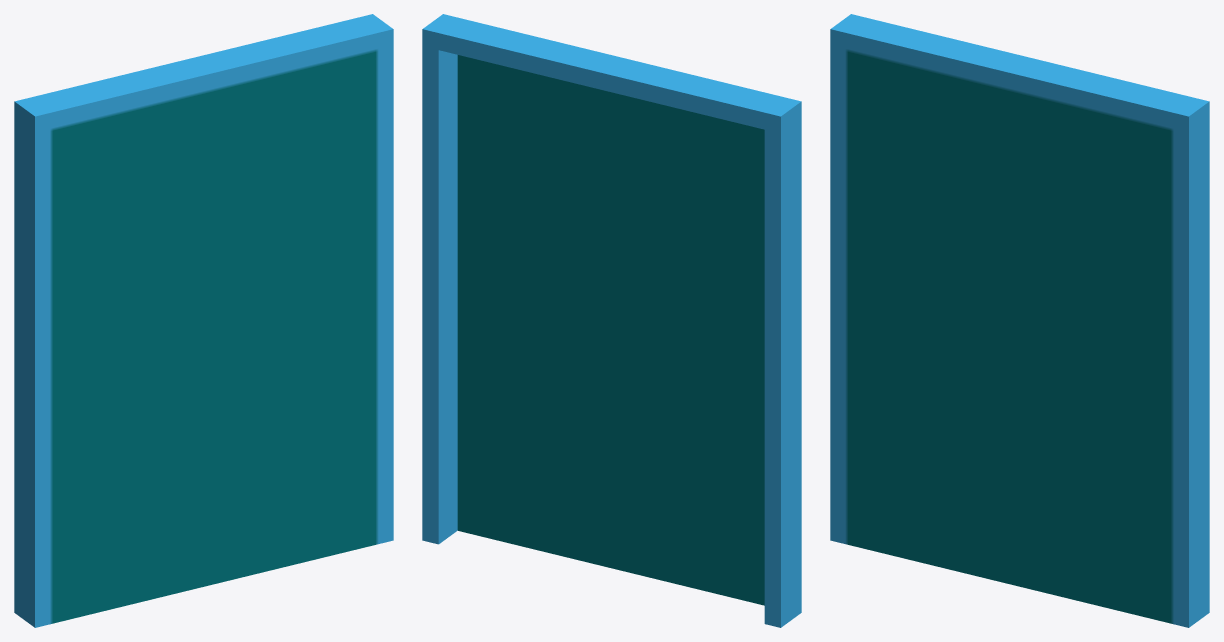
Rendered from Frame_Blue.fbx.
3 views of the same model, side by side, from view 1: azimuth 30°, elevation 25°; view 2: azimuth 150°, elevation 25°; view 3: azimuth 330°, elevation 25° (orthographic).
Parts seen in each view (by area): view 1: Frame_Blue; view 2: Frame_Blue; view 3: Frame_Blue.
Boxes of the visible parts, left/top/right/bottom form: Frame_Blue: left=14, top=14, right=393, bottom=627; Frame_Blue: left=422, top=14, right=801, bottom=627; Frame_Blue: left=830, top=14, right=1209, bottom=627.
Size of the model in its own units: 110 by 150 by 11.
Materials: 1 (1 with a texture image).
